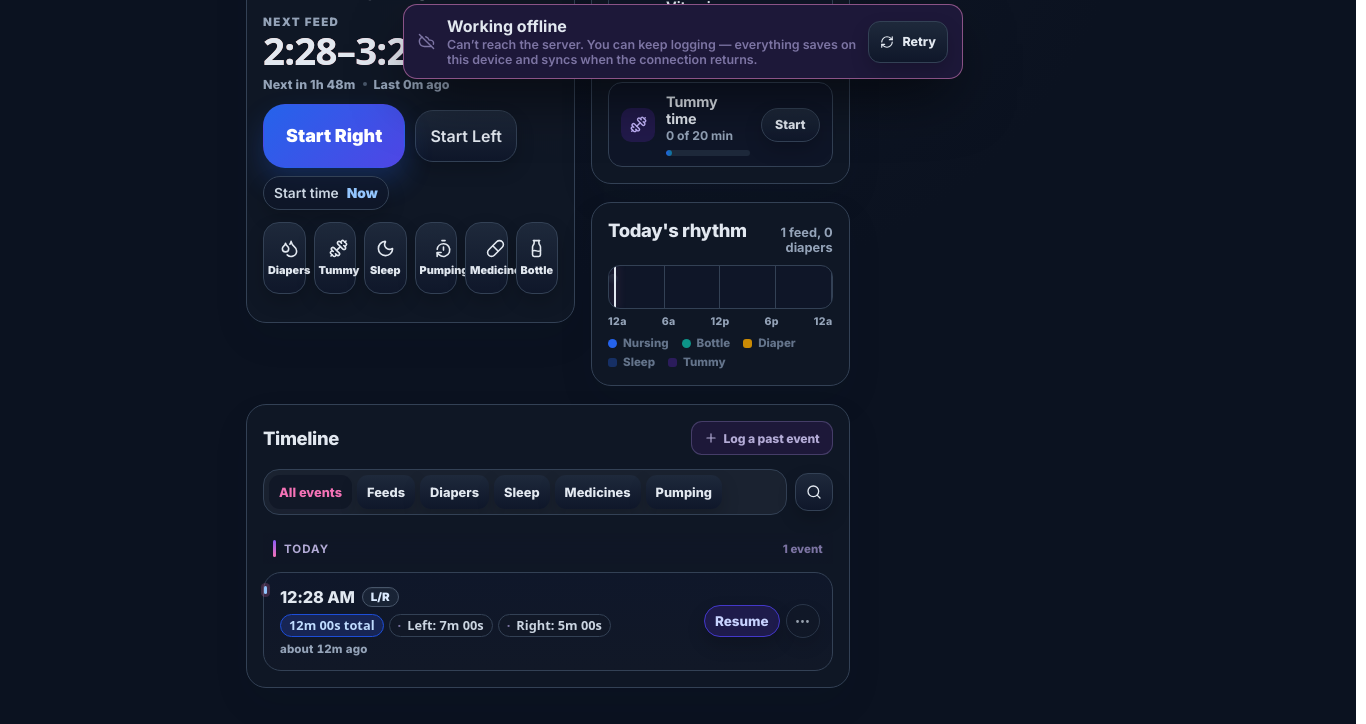
App interactions › edits left and right nursing minutes in a timeline item without changing the wall-clock end time
(page scrolled)
Step 1. Click the button named "Entry actions" → (803, 621), box [786,604,820,638]
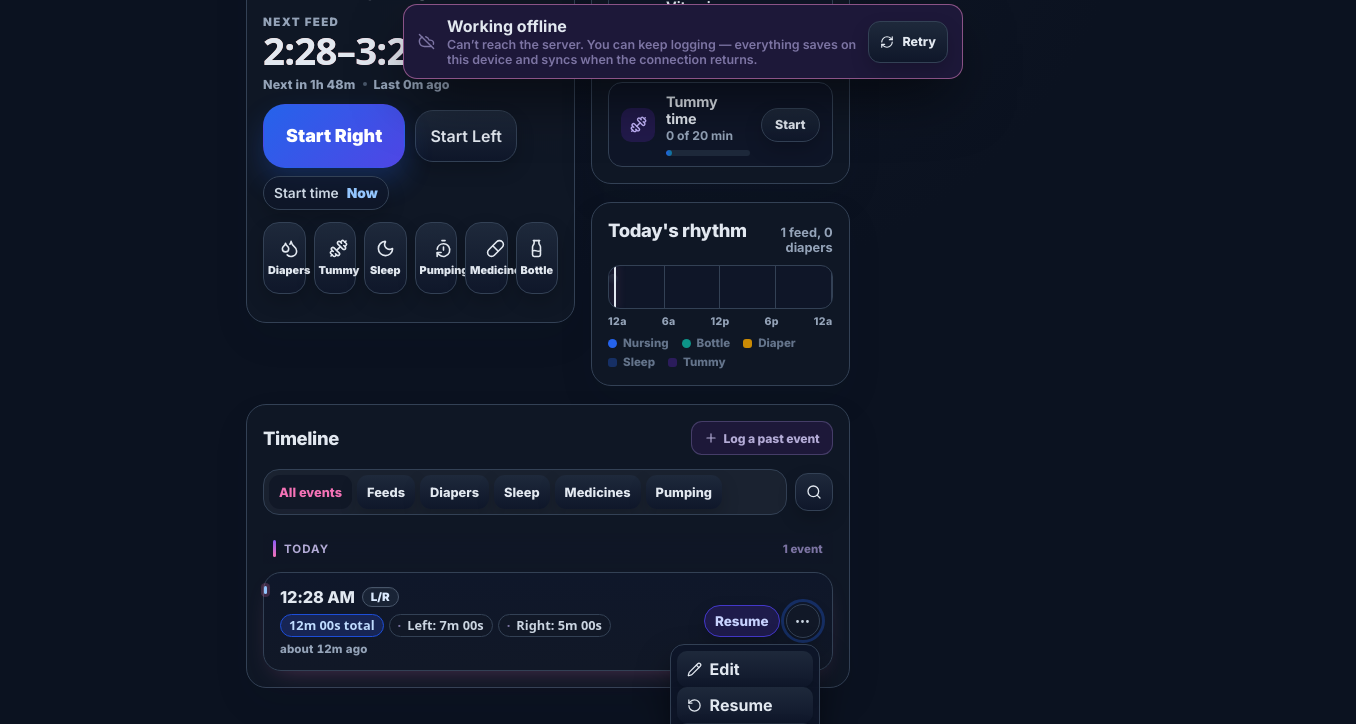
Step 2. Click the menu item "Edit" → (745, 669), box [677,651,813,687]
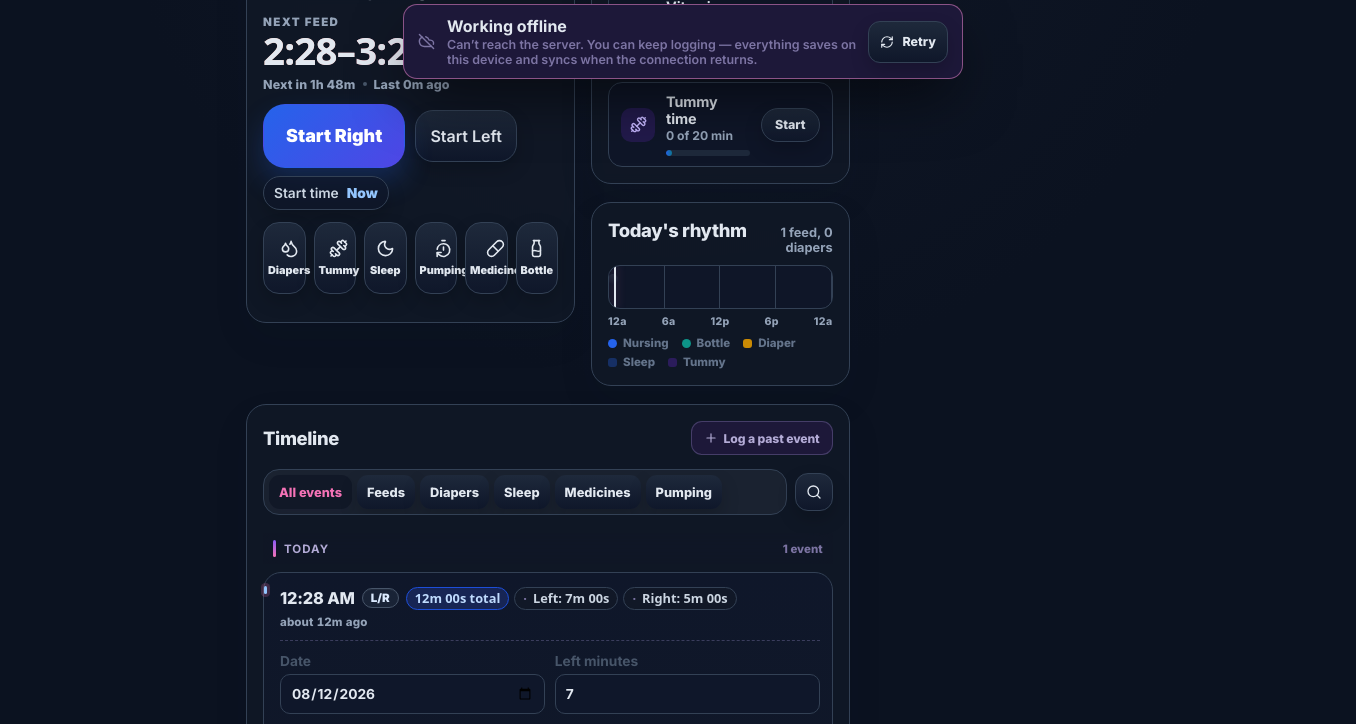
Step 3. Replace the text in the field labelled "Left minutes" with "9" → (687, 694), box [555,674,820,714]
(page scrolled)
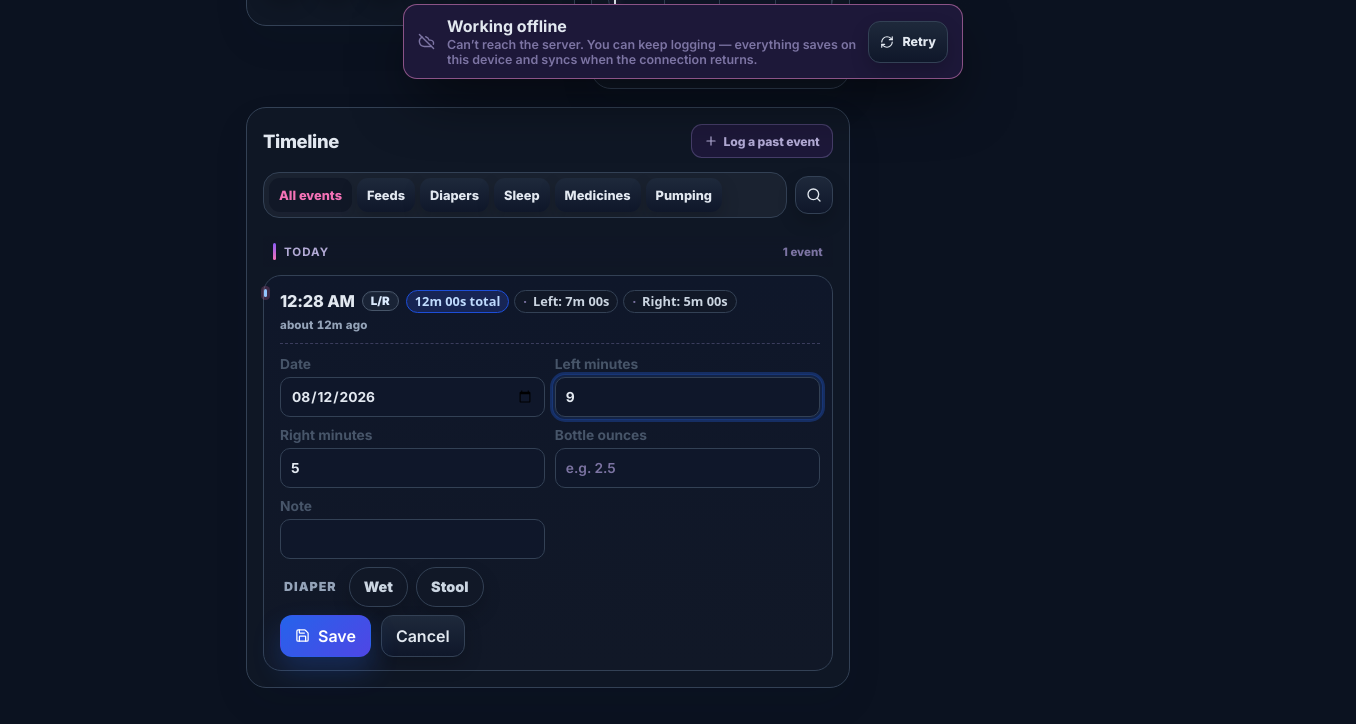
Step 4. Replace the text in the field labelled "Right minutes" with "4" → (412, 468), box [280,448,545,488]
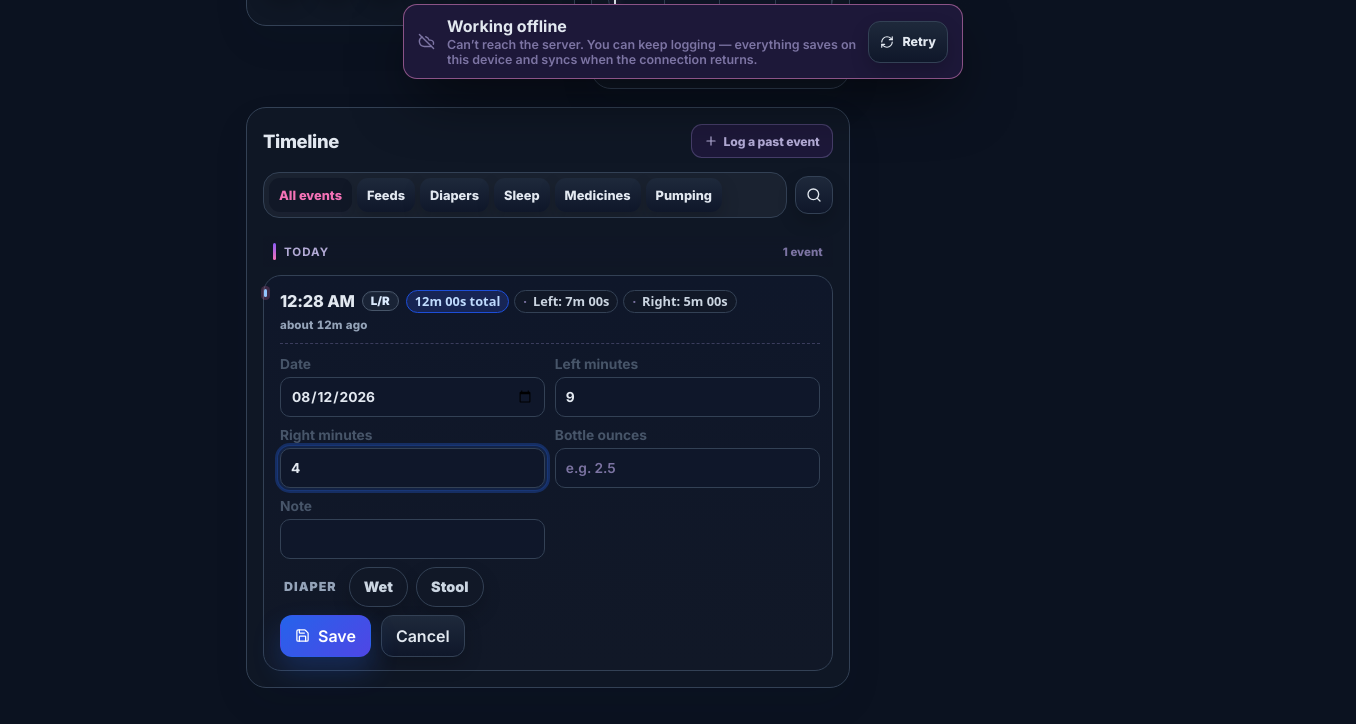
Step 5. Click the button "Save" → (325, 636), box [280,615,371,657]
(page scrolled)
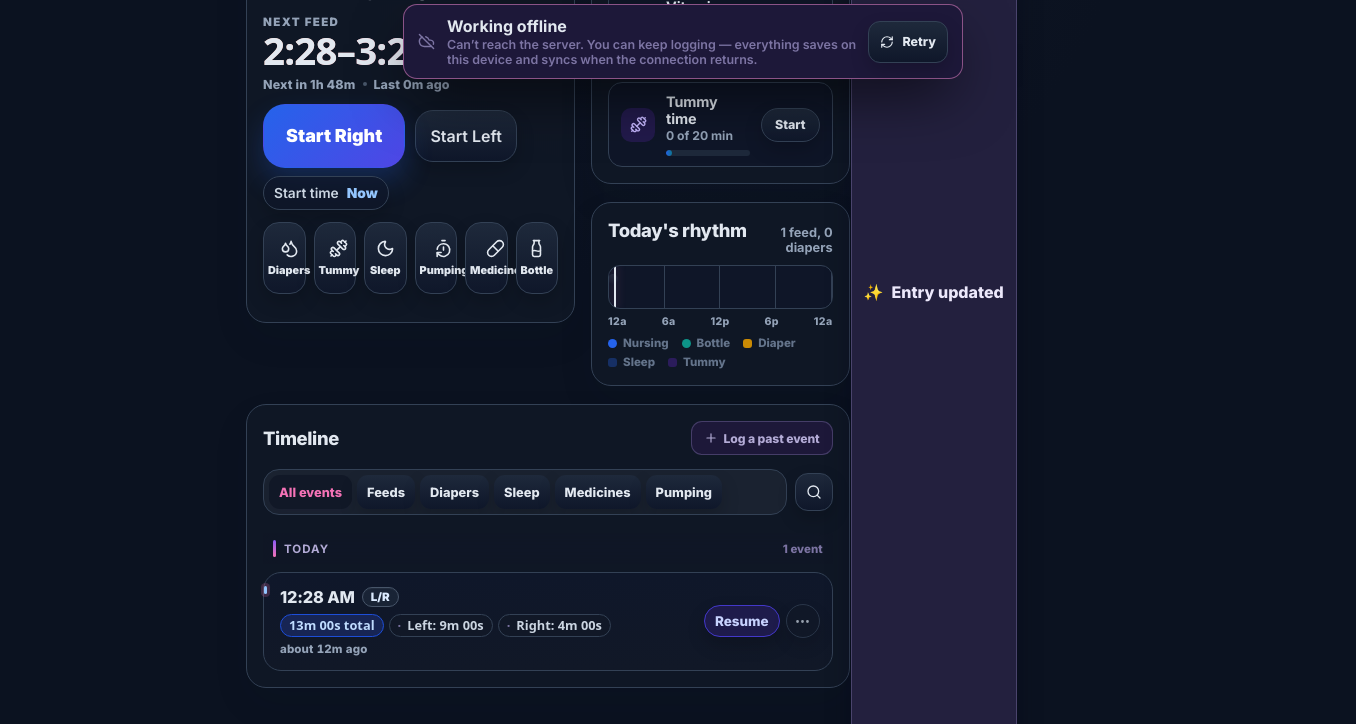
Expected: the text "Entry updated" is shown, [892,282,1004,302]
Expected: the text "Left: 9m 00s" is shown, [388,614,493,637]
Expected: the text "Right: 4m 00s" is shown, [498,614,611,637]
